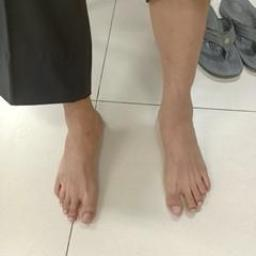Front View -Both Feet-: (36, 80, 218, 228)
